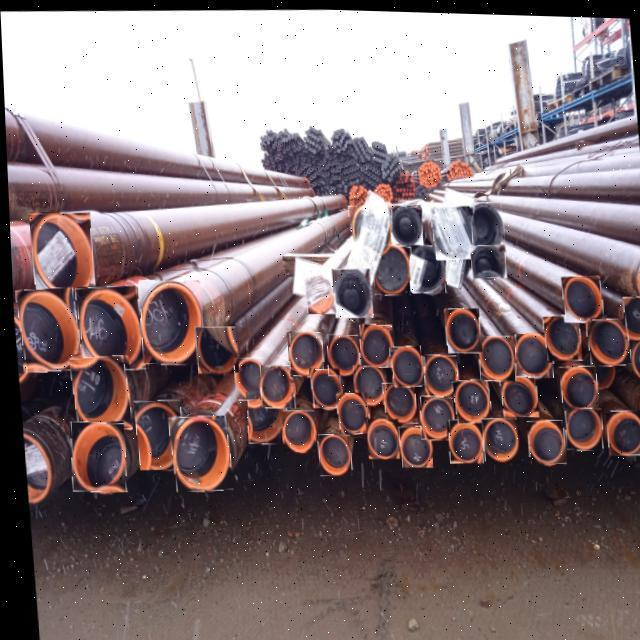pipe: (72, 284, 142, 370), (12, 287, 79, 372), (27, 212, 93, 298), (136, 279, 200, 363), (164, 414, 228, 490), (66, 354, 128, 431), (67, 421, 121, 491), (130, 399, 182, 469), (428, 203, 476, 257), (346, 201, 393, 254), (583, 314, 628, 362), (191, 325, 235, 372), (558, 271, 601, 319), (244, 390, 282, 442), (330, 266, 370, 315), (370, 242, 408, 293), (467, 198, 504, 250), (540, 311, 579, 357), (407, 241, 443, 290), (448, 376, 488, 420), (496, 369, 535, 414), (556, 362, 595, 406), (441, 305, 479, 350), (602, 406, 640, 451), (523, 417, 562, 460), (475, 333, 512, 378), (512, 329, 549, 374), (477, 415, 515, 458), (385, 342, 422, 385), (562, 404, 599, 447), (286, 329, 319, 375), (394, 423, 429, 465), (379, 379, 414, 421), (416, 393, 449, 437), (357, 321, 390, 365), (278, 408, 313, 449), (257, 364, 291, 406), (445, 417, 478, 460), (332, 390, 366, 431), (314, 432, 347, 474), (300, 270, 333, 312), (349, 362, 383, 402), (324, 331, 356, 373), (422, 351, 454, 393), (306, 366, 339, 406), (231, 357, 262, 399), (363, 416, 395, 456), (390, 203, 420, 244), (468, 241, 504, 275), (620, 292, 640, 336), (627, 336, 640, 377)
